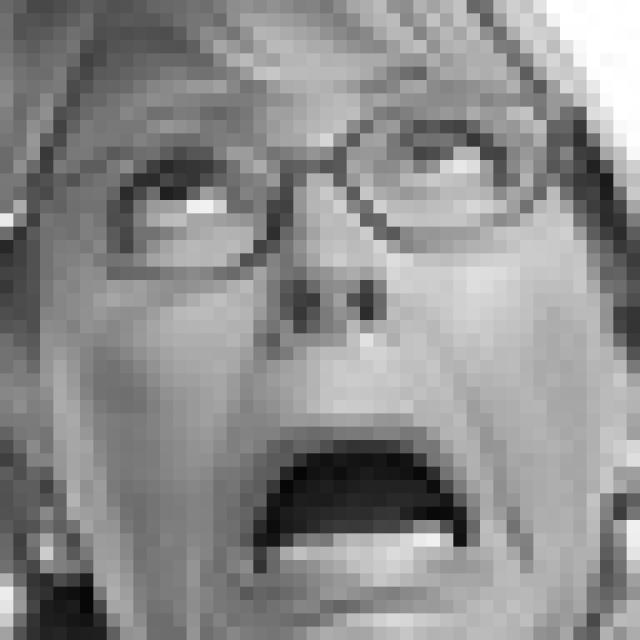fear: (89, 74, 552, 629)
